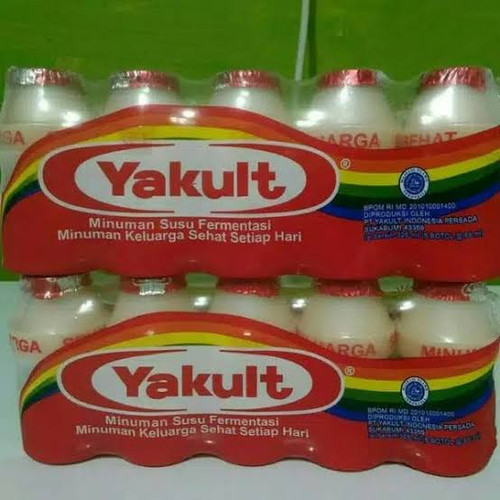Yakult (325ml): (3, 65, 490, 279), (13, 280, 492, 467)
